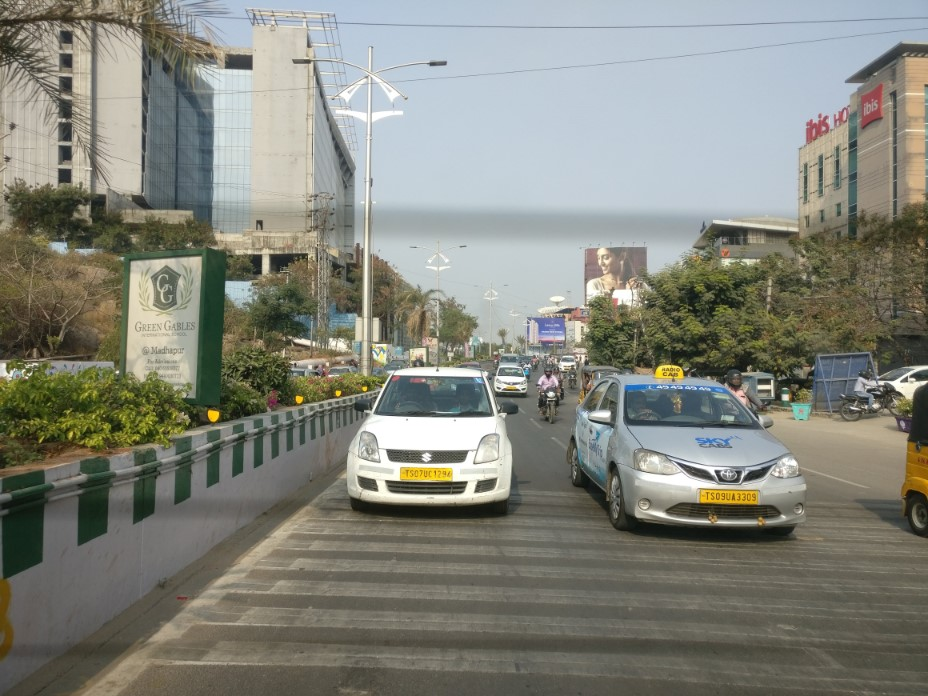swift desire: (346, 370, 511, 509)
